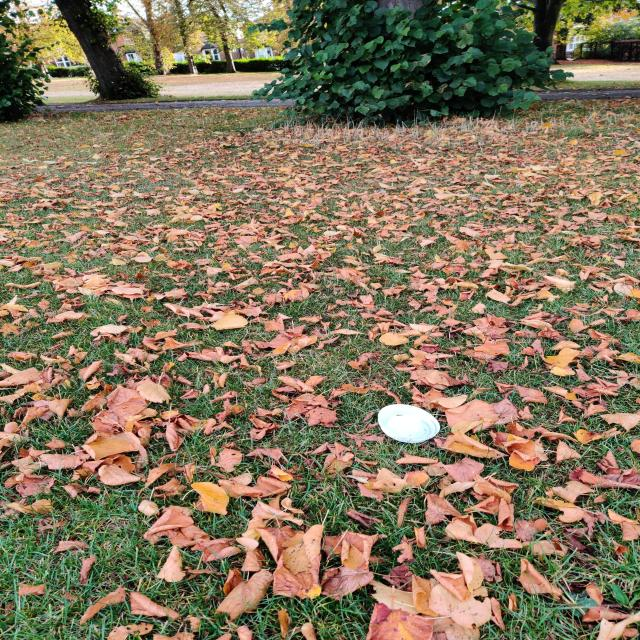litter: (375, 401, 443, 446)
